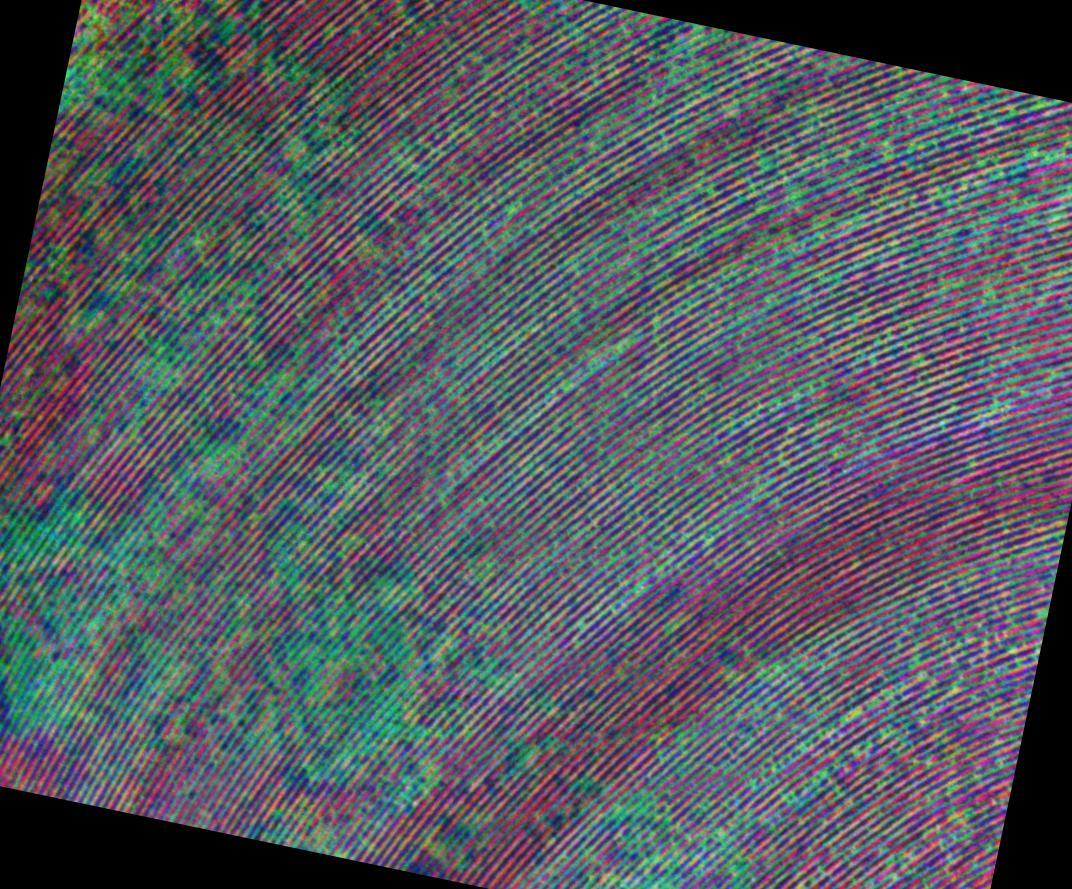dc: (635, 246, 639, 250), (352, 632, 356, 636), (424, 731, 428, 735), (747, 256, 751, 259), (619, 349, 623, 352), (454, 382, 458, 385), (347, 483, 351, 486), (828, 179, 831, 182), (813, 224, 816, 227), (282, 576, 285, 579)
